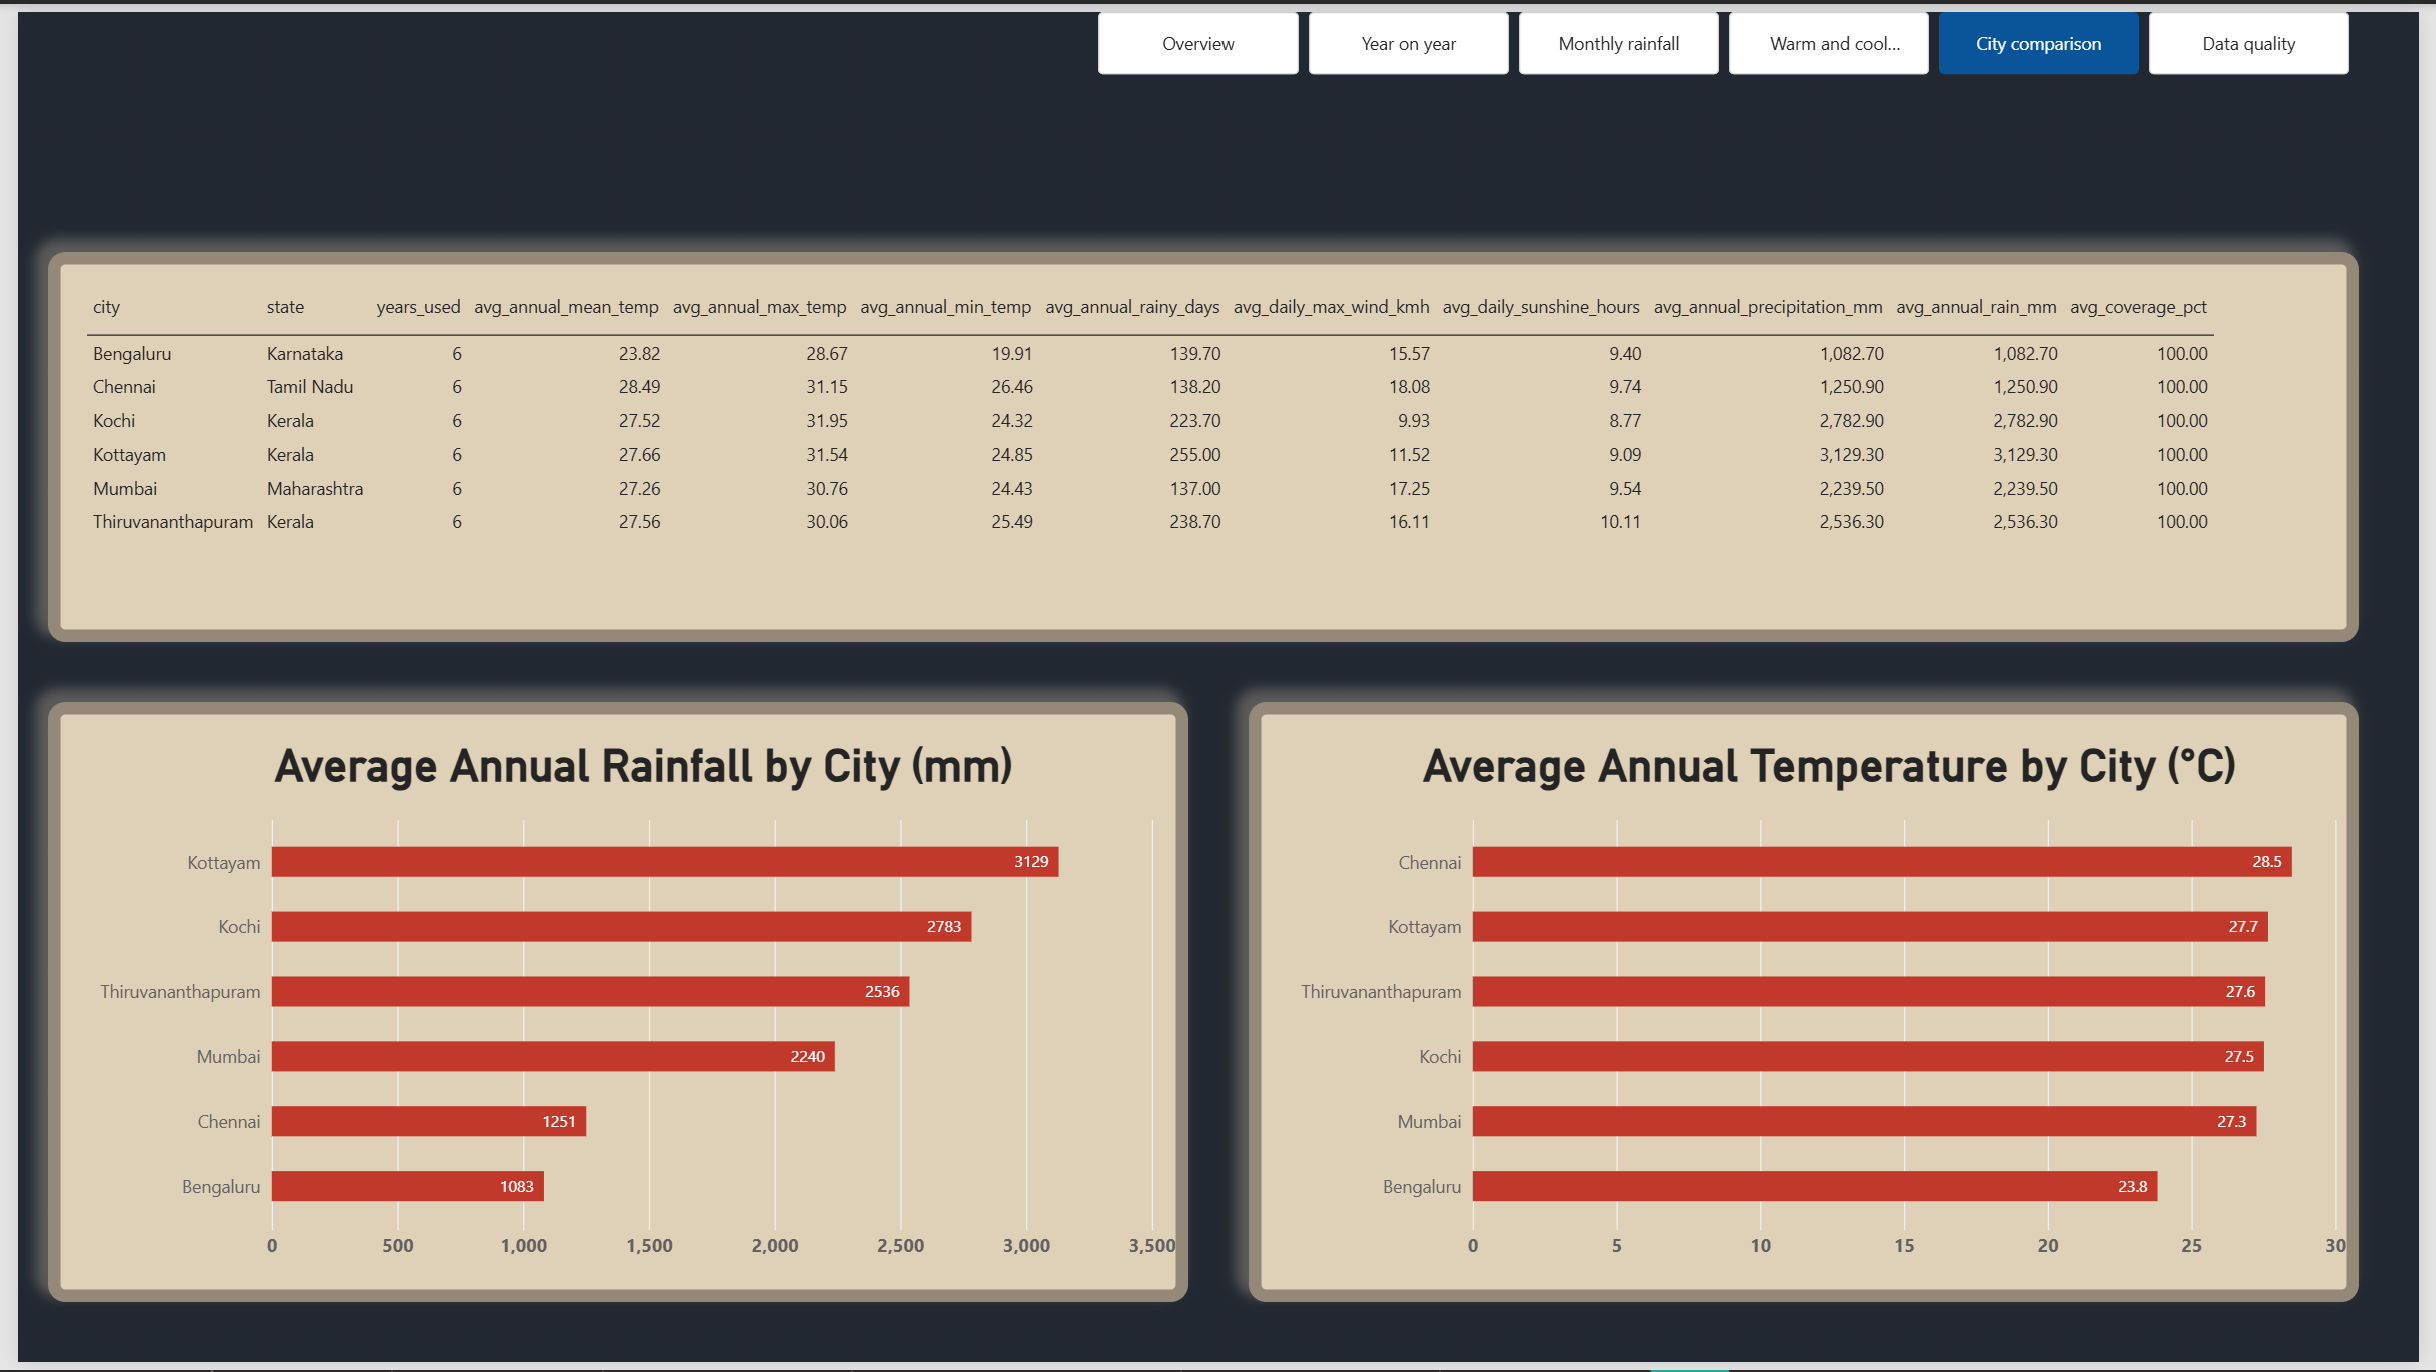

Layout of this report page (visuals, bound fields, positions):
{"tool":"powerbi","page":{"name":"City comparison","canvas":[1920,1080],"ordinal":4},"visuals":[{"type":"clusteredBarChart","title":"Average Annual Rainfall by City (mm)","fields":{"Category":["vw_long_term_city_comparison.city"],"Y":["Sum(vw_long_term_city_comparison.avg_annual_rain_mm)"]},"box":[24,552,912,480],"z":0},{"type":"clusteredBarChart","title":"Average Annual Temperature by City (°C)","fields":{"Category":["vw_long_term_city_comparison.city"],"Y":["Sum(vw_long_term_city_comparison.avg_annual_mean_temp)"]},"box":[984,552,888,480],"z":1000},{"type":"tableEx","fields":{"Values":["vw_long_term_city_comparison.city","vw_long_term_city_comparison.state","vw_long_term_city_comparison.years_used","vw_long_term_city_comparison.avg_annual_mean_temp","vw_long_term_city_comparison.avg_annual_max_temp","vw_long_term_city_comparison.avg_annual_min_temp","vw_long_term_city_comparison.avg_annual_rainy_days","vw_long_term_city_comparison.avg_daily_max_wind_kmh","vw_long_term_city_comparison.avg_daily_sunshine_hours","vw_long_term_city_comparison.avg_annual_precipitation_mm","vw_long_term_city_comparison.avg_annual_rain_mm","vw_long_term_city_comparison.avg_coverage_pct"]},"box":[24,192,1848,312],"z":2000},{"type":"pageNavigator","box":[864,0,1000,50],"z":4000}]}

Visuals, with their boxes in screenshot pixels (x1, y1, x2, y2), scaled from the page's 1920x1080 canvas onto the 2436x1372 screenshot:
"Average Annual Rainfall by City (mm)" clusteredBarChart: <bbox>30, 701, 1188, 1311</bbox>
"Average Annual Temperature by City (°C)" clusteredBarChart: <bbox>1248, 701, 2375, 1311</bbox>
tableEx - vw_long_term_city_comparison.city x vw_long_term_city_comparison.state: <bbox>30, 244, 2375, 640</bbox>
pageNavigator: <bbox>1096, 0, 2365, 64</bbox>
